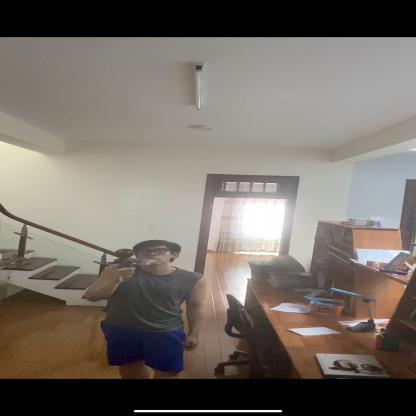cigarette: (116, 267, 136, 270)
person: (91, 239, 206, 380)
smoke: (139, 258, 158, 266)
